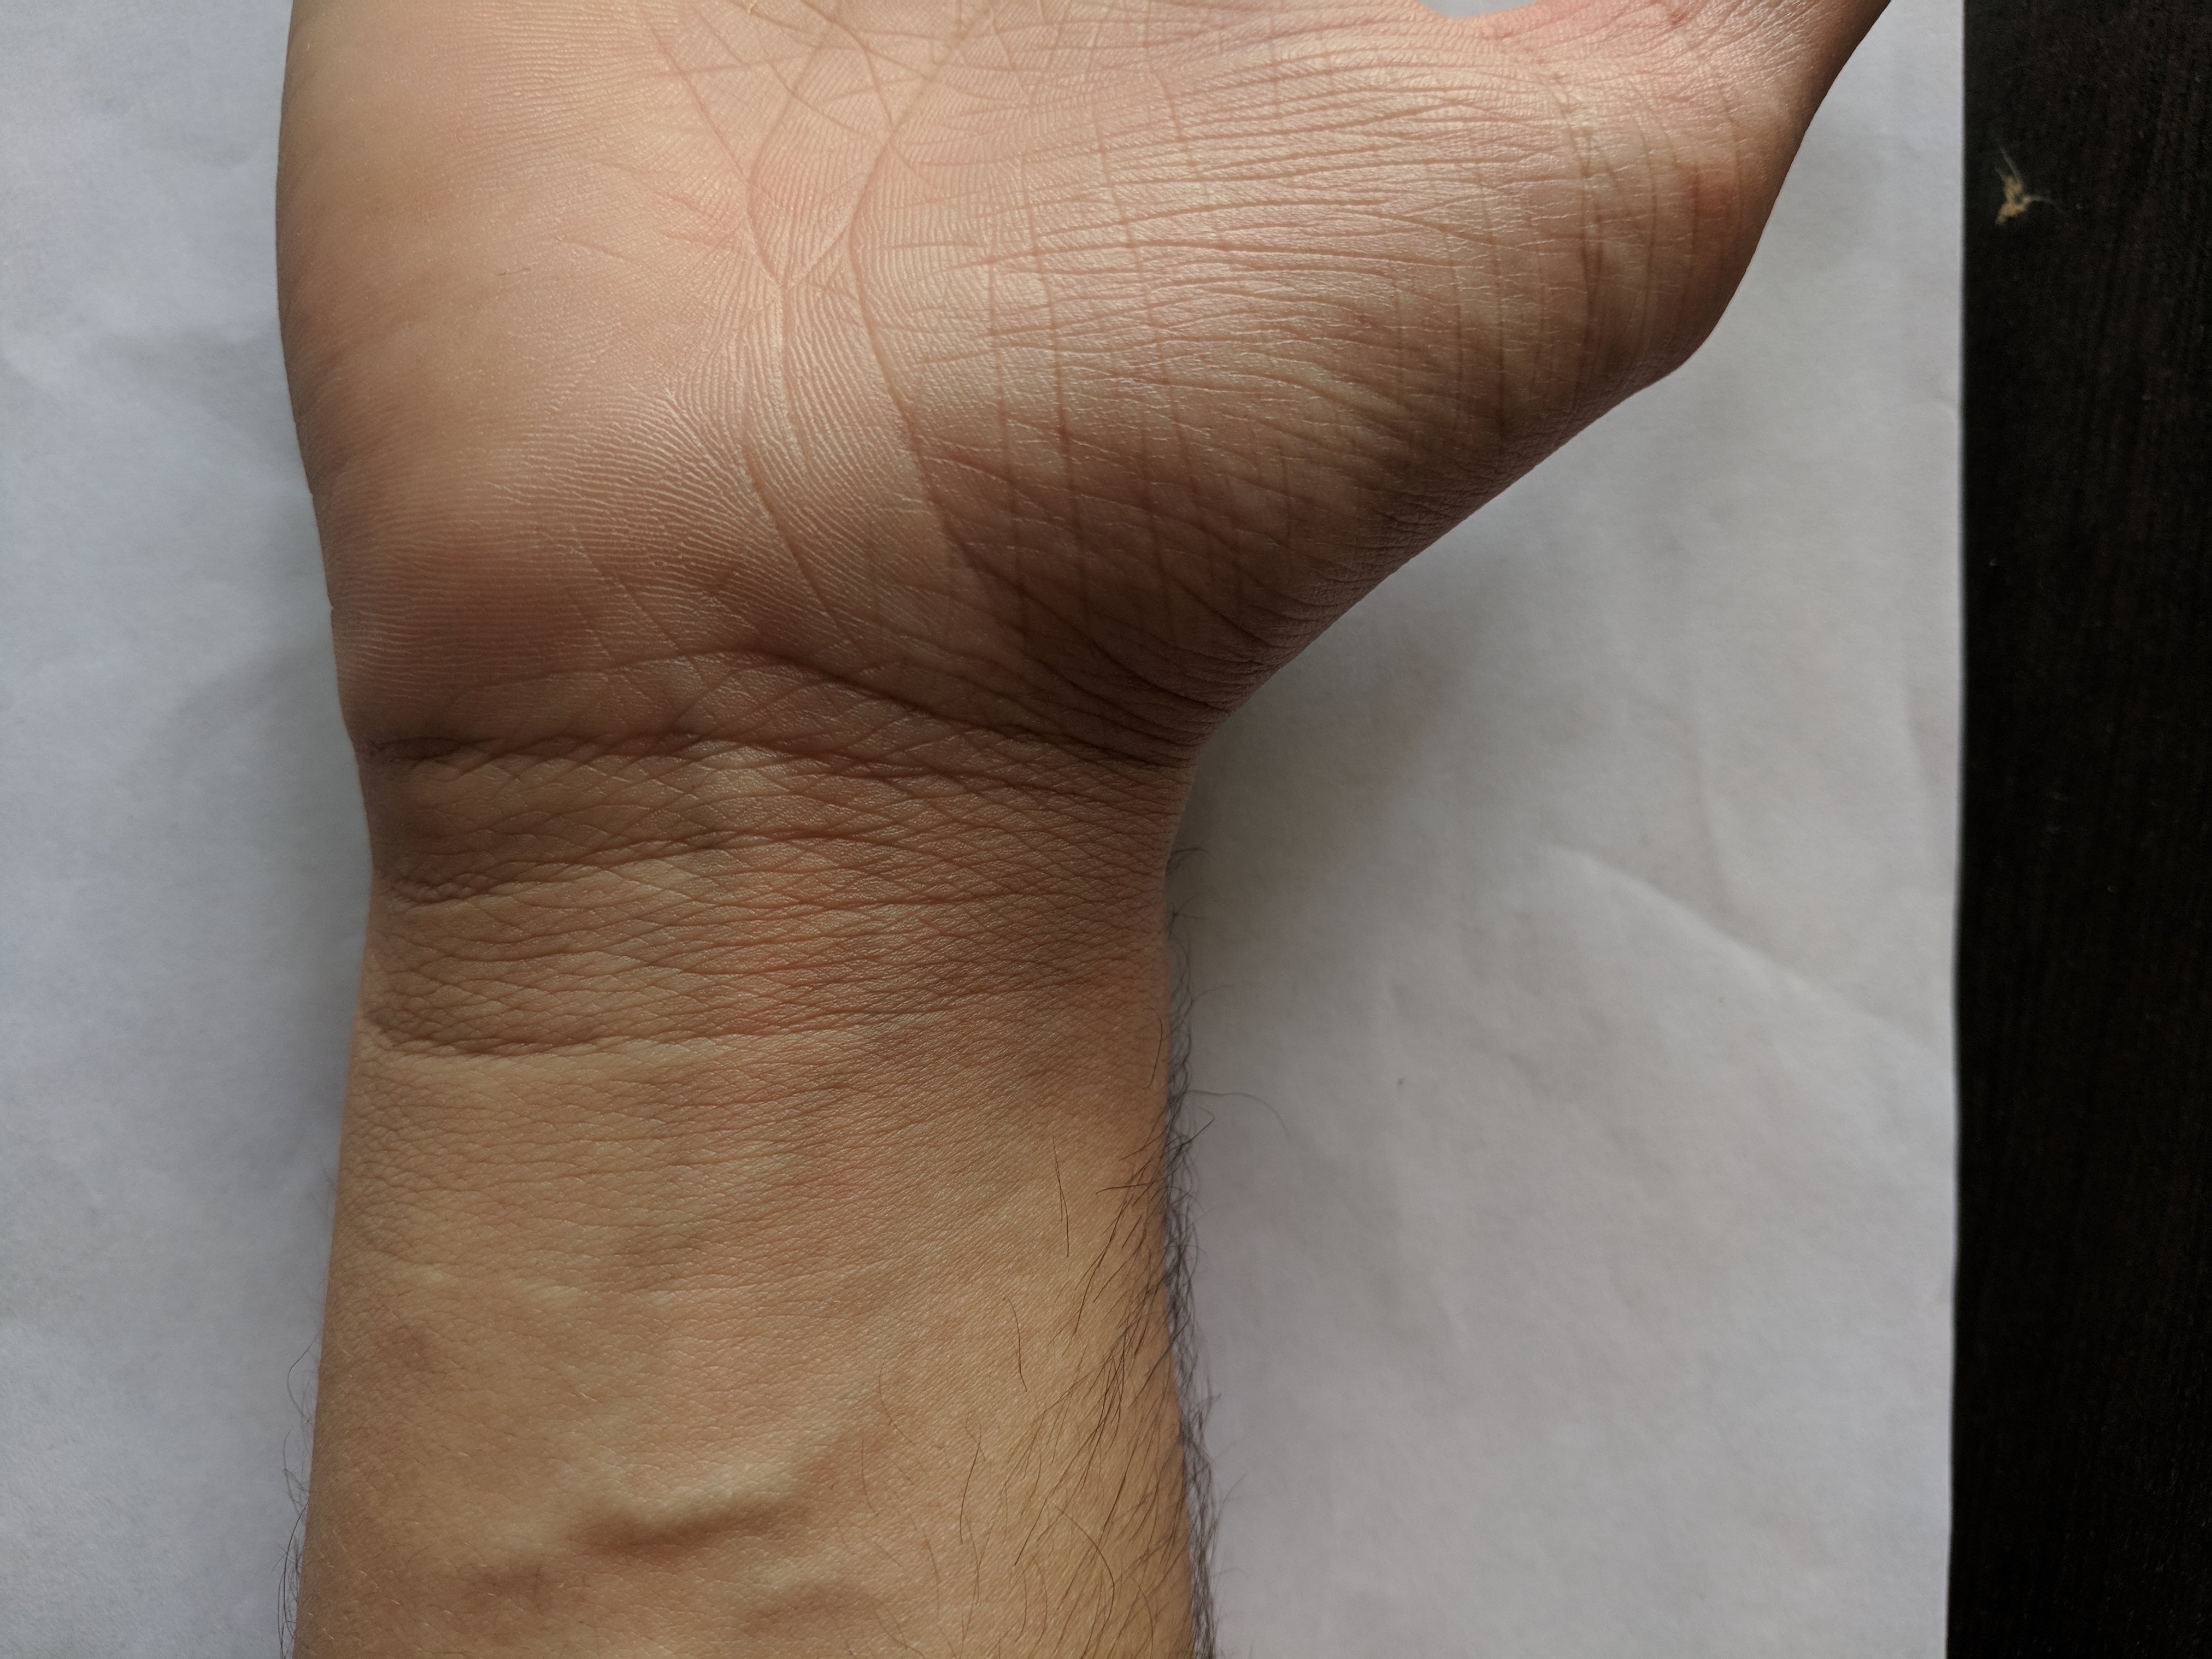righthandwrist: (338, 678, 1270, 1073)
